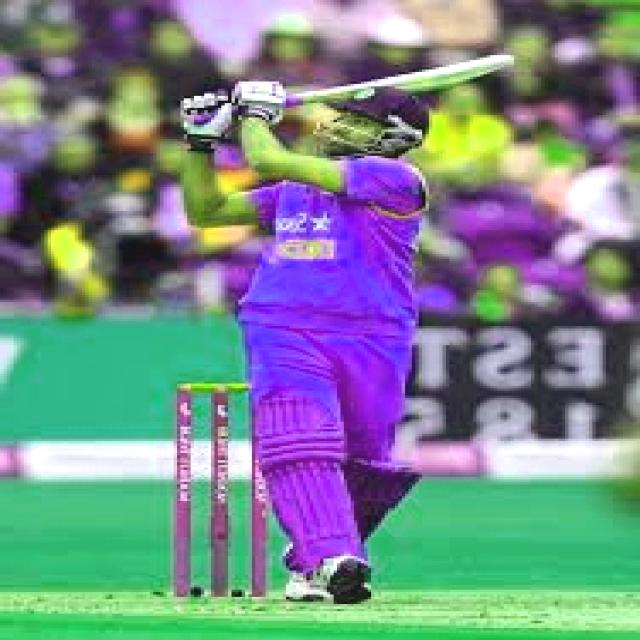toe: (488, 47, 522, 71)
